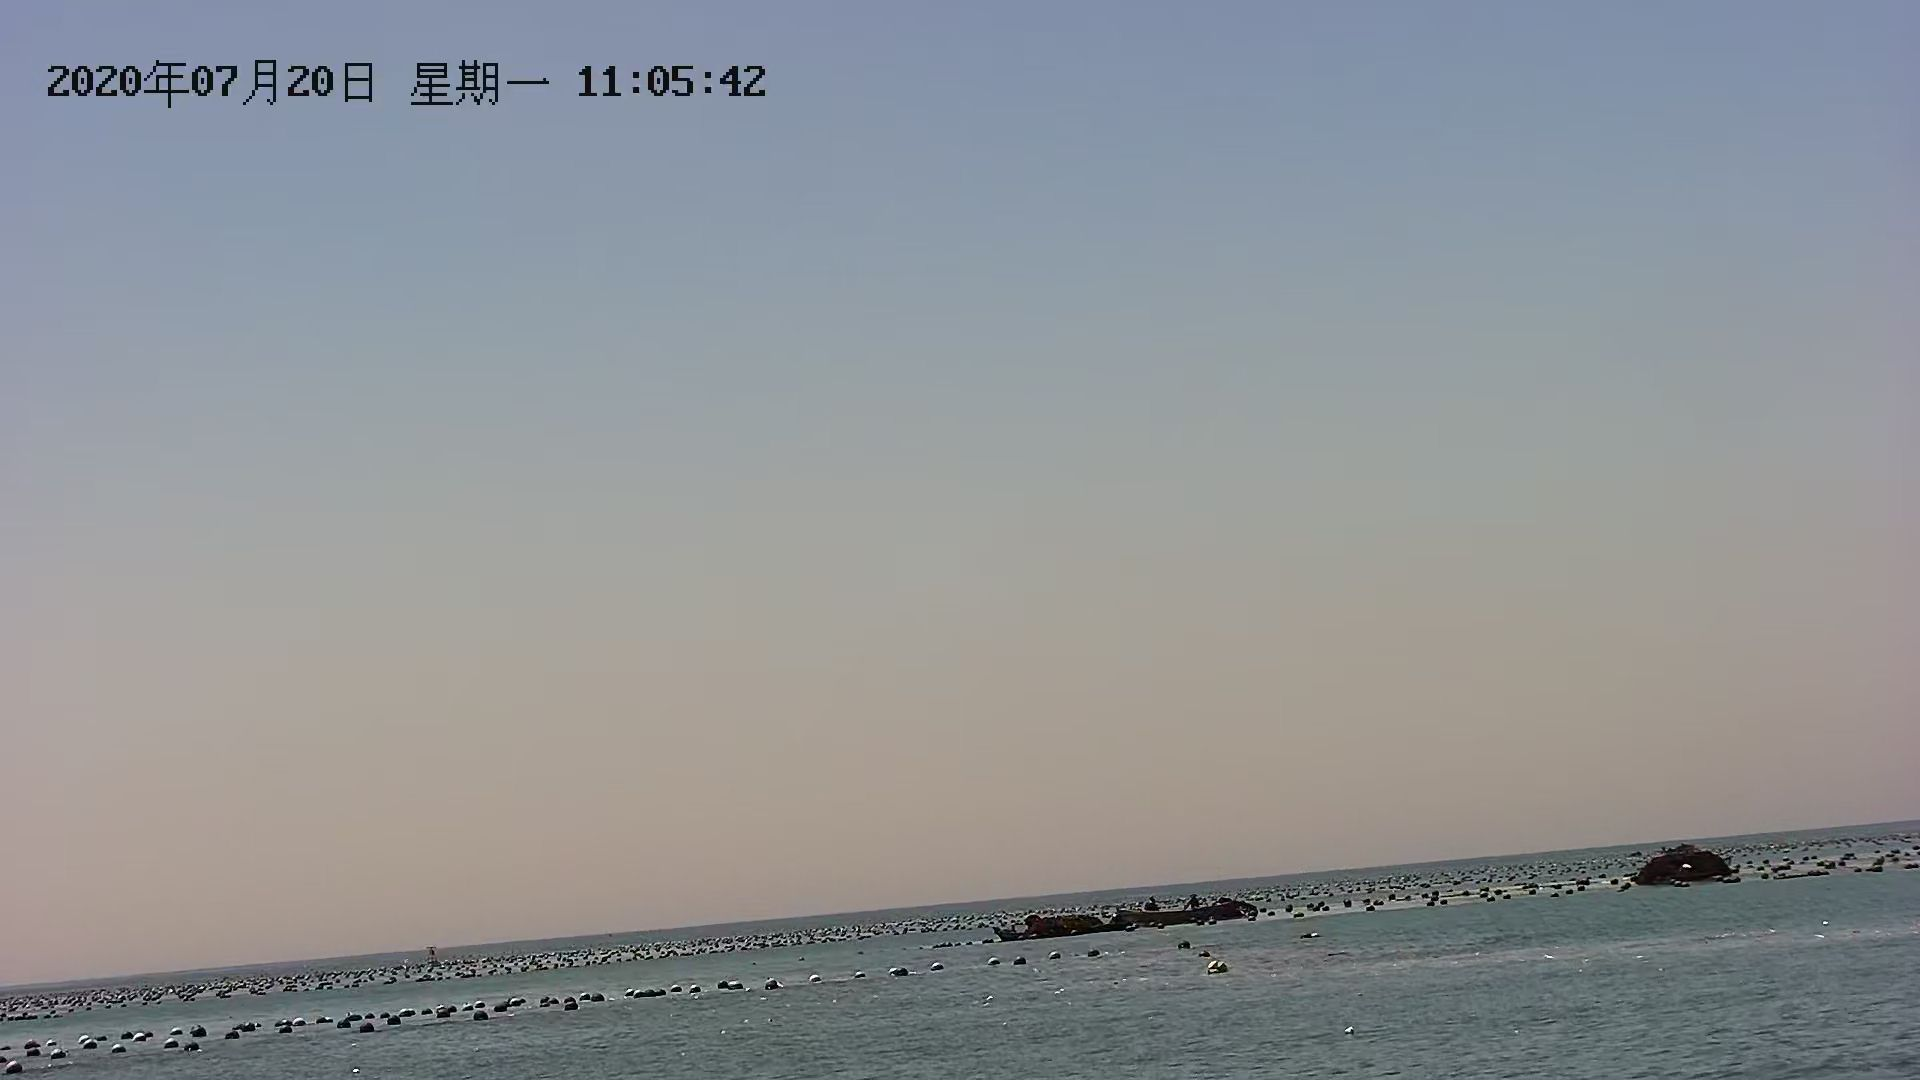rock: (996, 907, 1273, 932), (1636, 843, 1735, 894)
